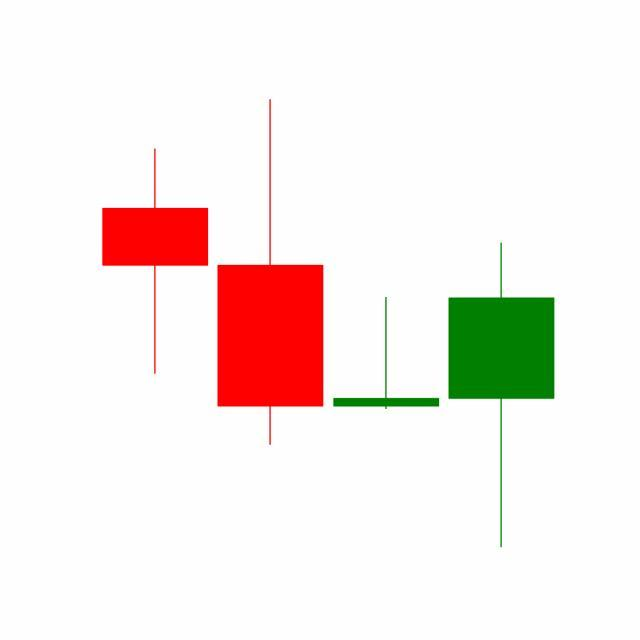Gravestone Doji: (329, 296, 445, 412)
